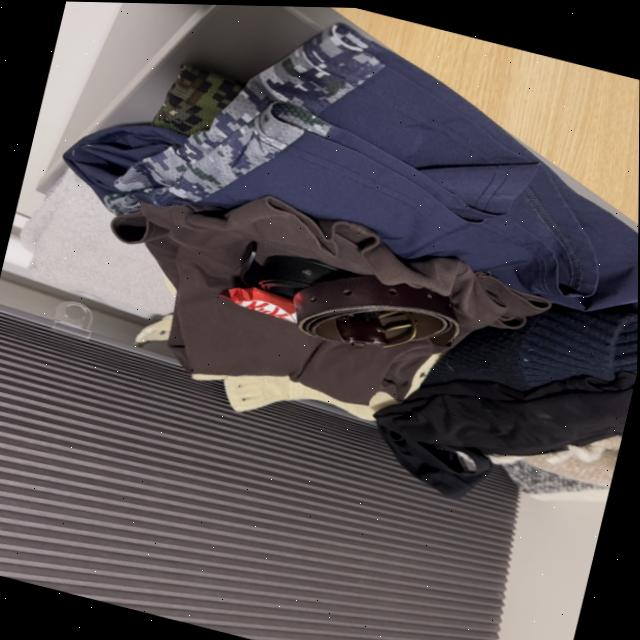chocolate: (214, 270, 322, 330)
